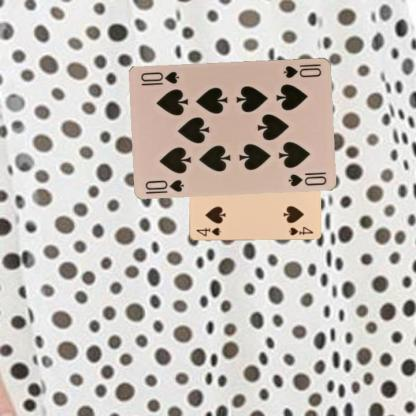10s: (281, 61, 323, 79), (142, 177, 186, 193)
4s: (193, 226, 222, 237)
